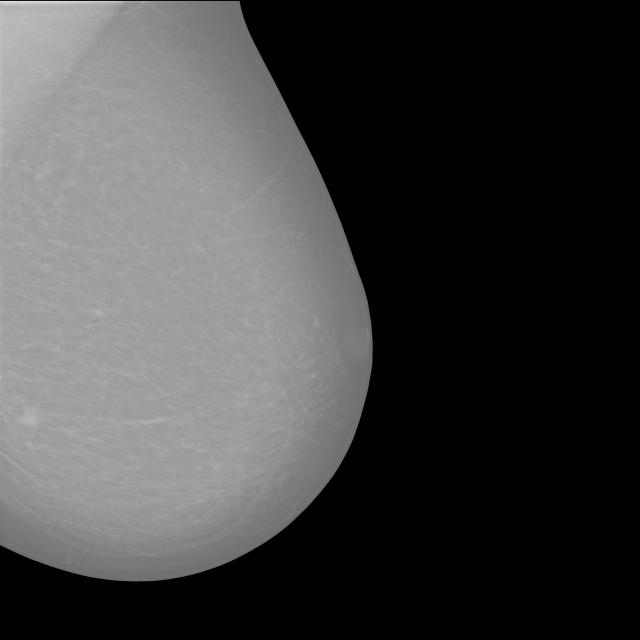Mass_1: (6, 402, 52, 436)
